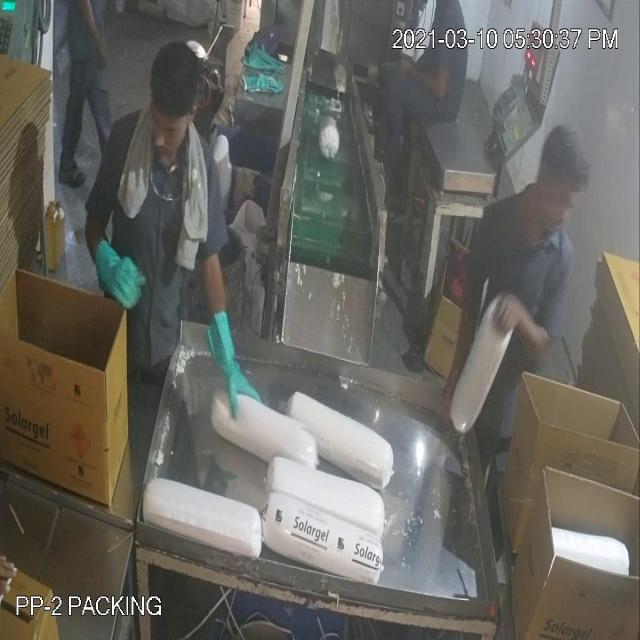No_Gloves: (43, 35, 526, 358)
